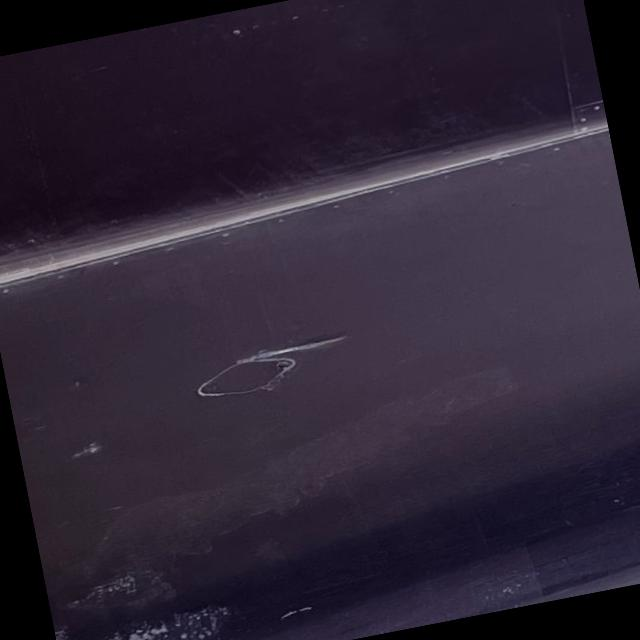crack: (246, 331, 336, 369)
